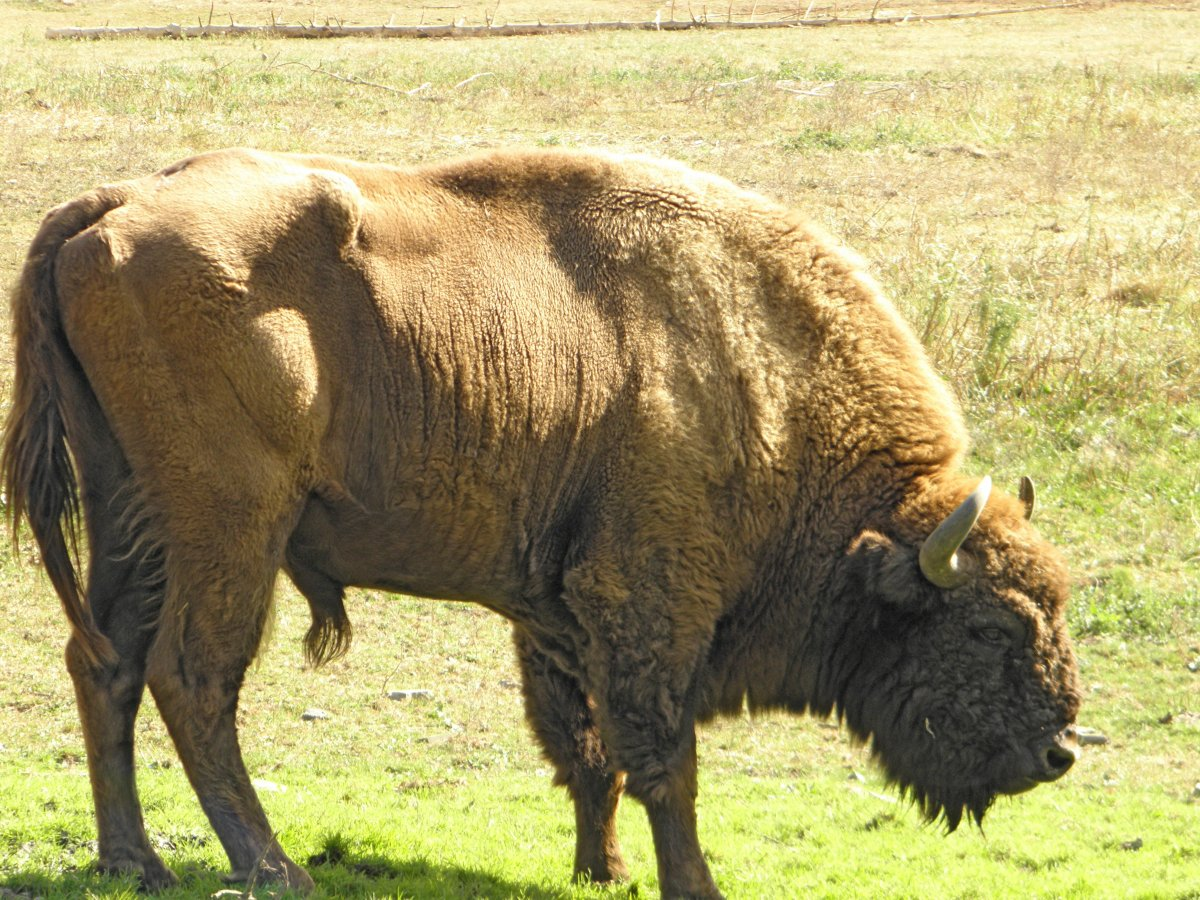zubr: (3, 108, 1114, 900)
